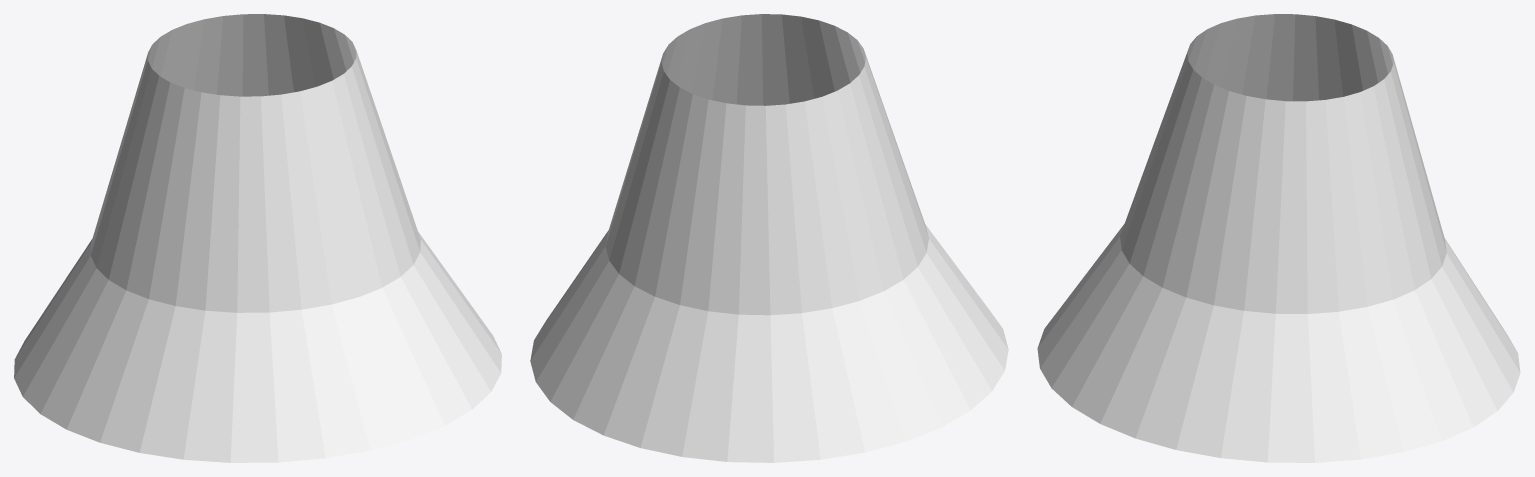
The model's file is robe.fbx.
The picture shows the model from 3 angles, left to right: view 1: azimuth 30°, elevation 25°; view 2: azimuth 150°, elevation 25°; view 3: azimuth 270°, elevation 25°; orthographic projection. The views are drawn at different scales.
Visible parts, largest first — view 1: node_id4; view 2: node_id4; view 3: node_id4.
Boxes of the visible parts, box(x1,y1,x2,y2) form: node_id4: box(14, 14, 501, 462); node_id4: box(530, 14, 1008, 462); node_id4: box(1037, 14, 1520, 462).
Bounding box in the file's own units: 0.5114 × 0.3665 × 0.5111.
Materials: 1 (1 with a texture image).
